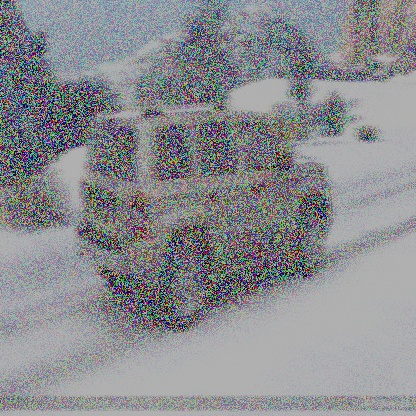Vehicle: (74, 96, 334, 335)
